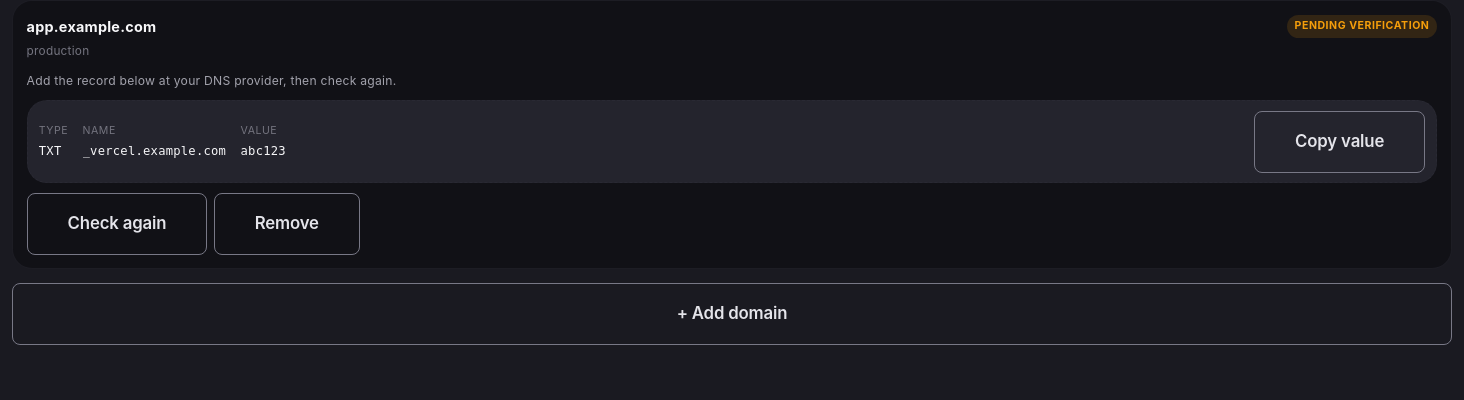
ProjectDomainsView › keeps the add form behind + Add domain when asked to, after the list
Click the button "+ Add domain": (732, 314) [12,284,1452,345]
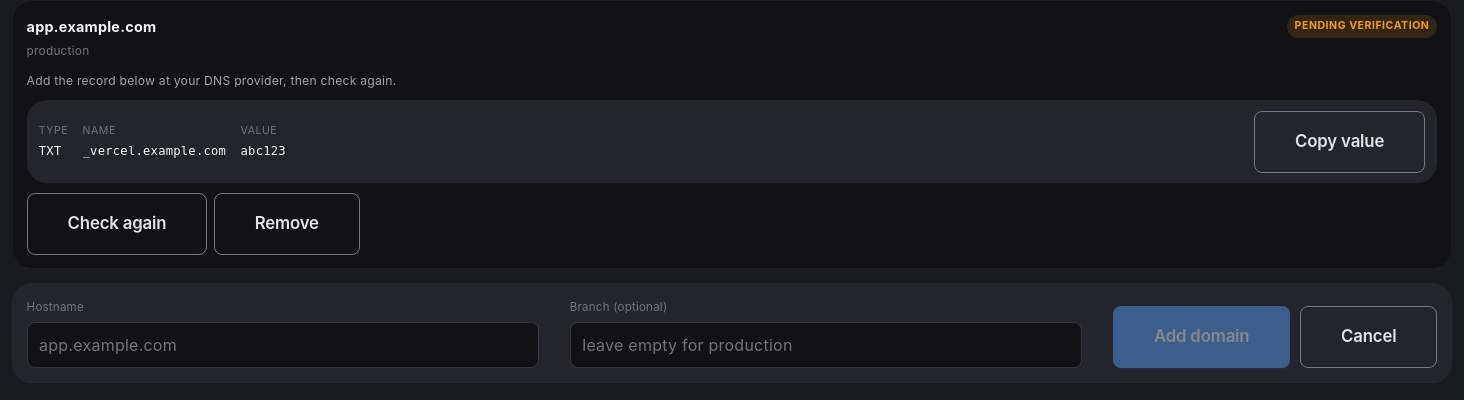
expect the form is shown: met, box [12,284,1452,383]
Click the button "Cancel": (1369, 337) [1300,306,1437,368]
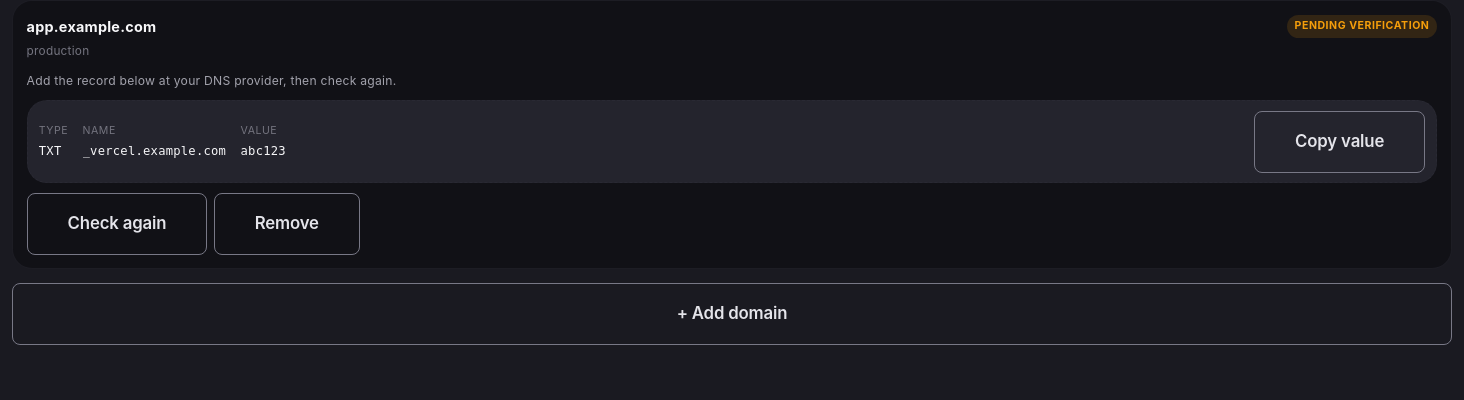
expect the button "+ Add domain" is shown: met, box [12,284,1452,345]
expect the form is gone: met
